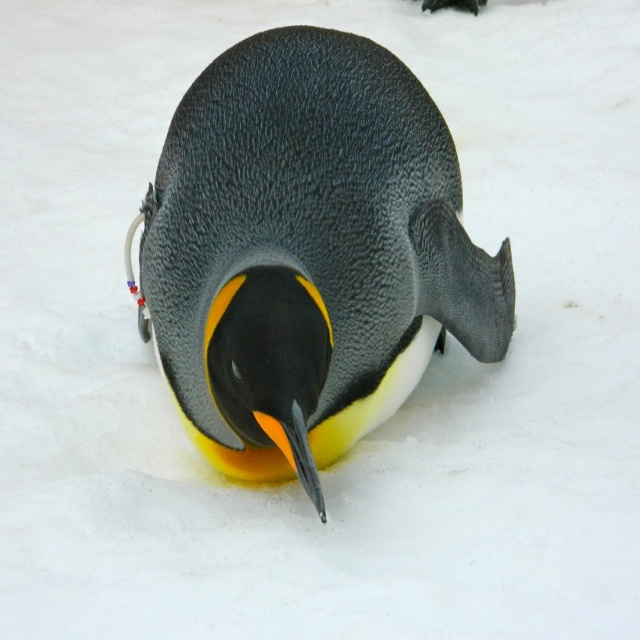Penguin: (137, 23, 516, 524)
